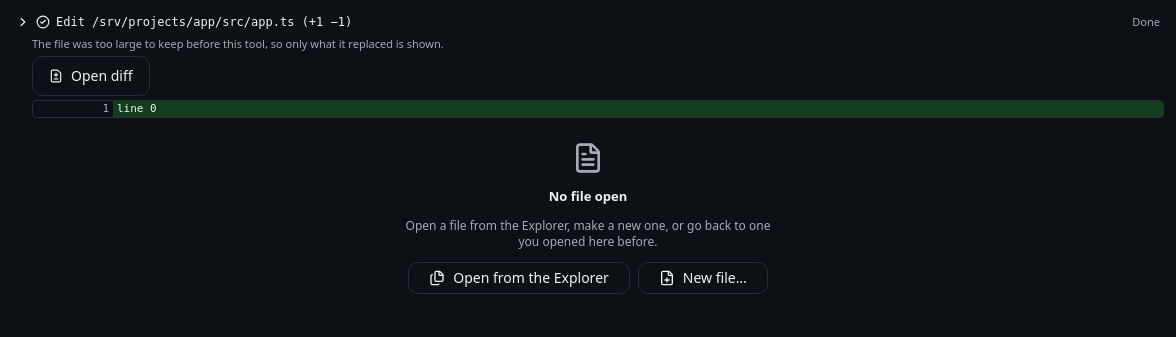
Test case: the diff of a tool in the chat › reads a side the editor cannot know as an error of the tab
The width and height of the screenshot is (1176, 337).
Click the button "Open diff". click: (91, 76)
box: 32,56 -> 150,96
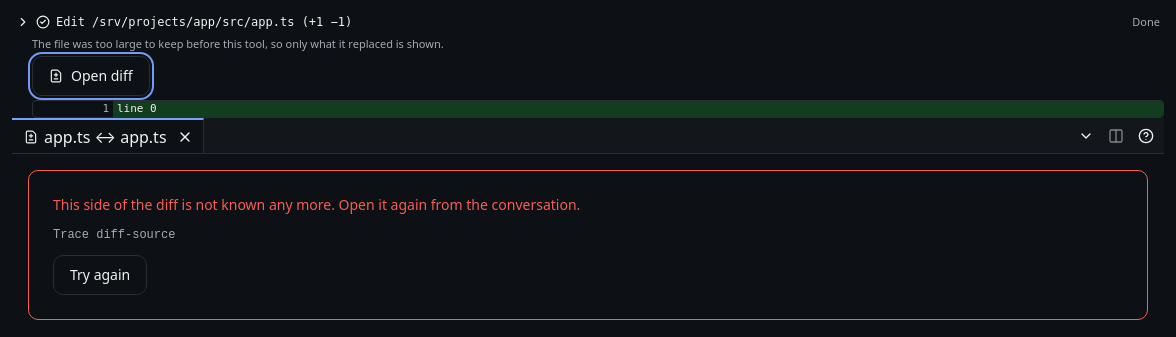
Result: the text "This side of the diff is not known any more. Open it again from the conversation." is shown at 53,195 -> 580,214
